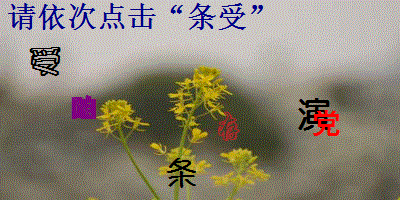result: (187, 1, 248, 33)
text: (27, 44, 63, 78), (297, 96, 330, 133), (166, 156, 199, 189), (312, 108, 340, 140), (215, 111, 243, 142), (69, 94, 99, 121)
